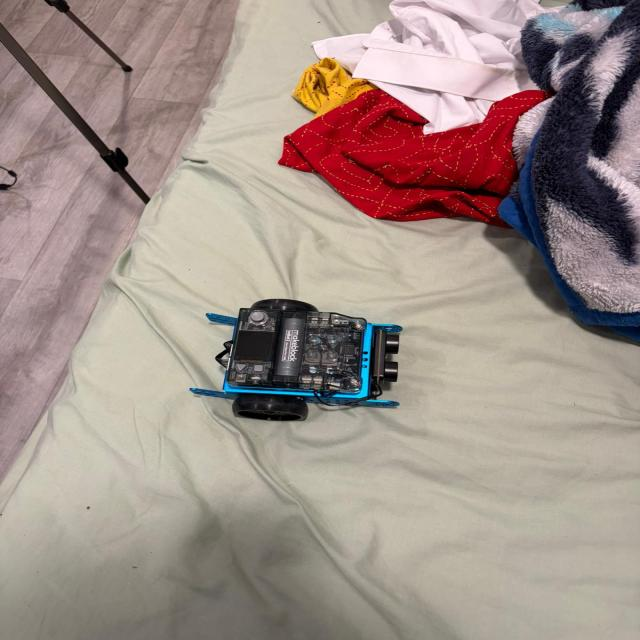mbot-detection: (183, 296, 412, 426)
